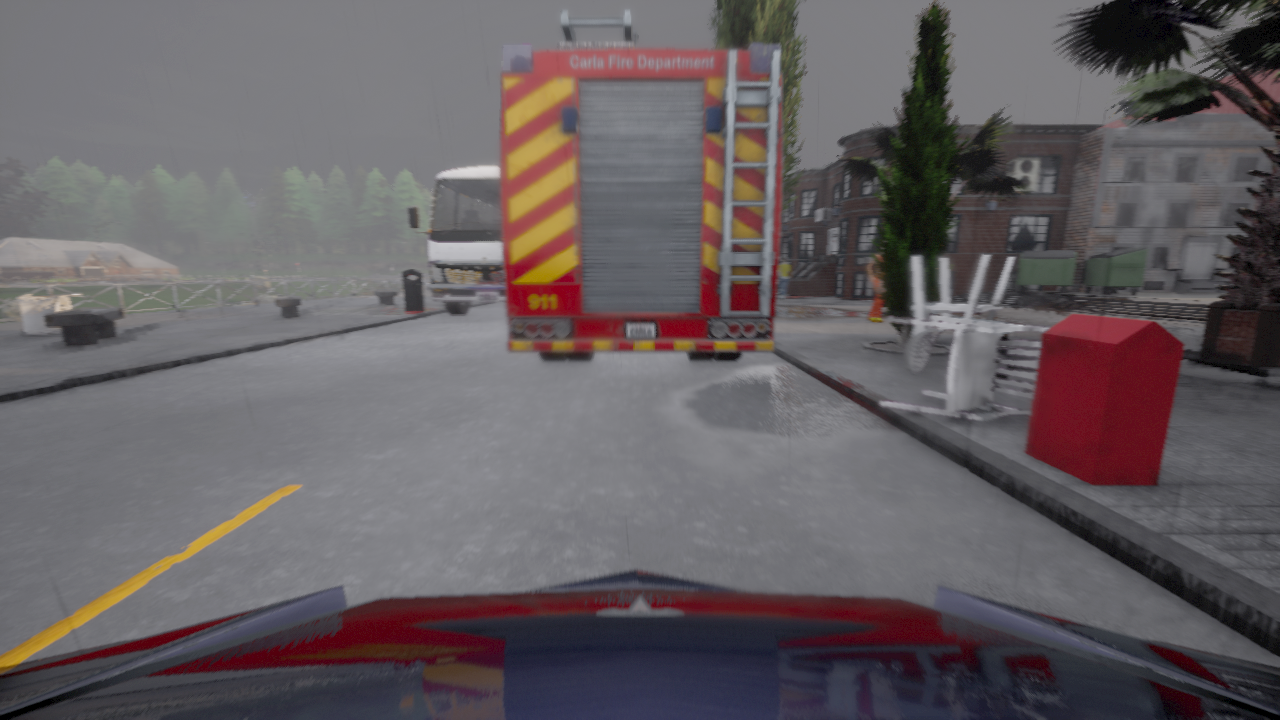cyclist: (0, 569, 1279, 719), (500, 10, 781, 361), (407, 166, 505, 315)
pedestrian: (867, 246, 885, 321), (777, 257, 790, 300)
